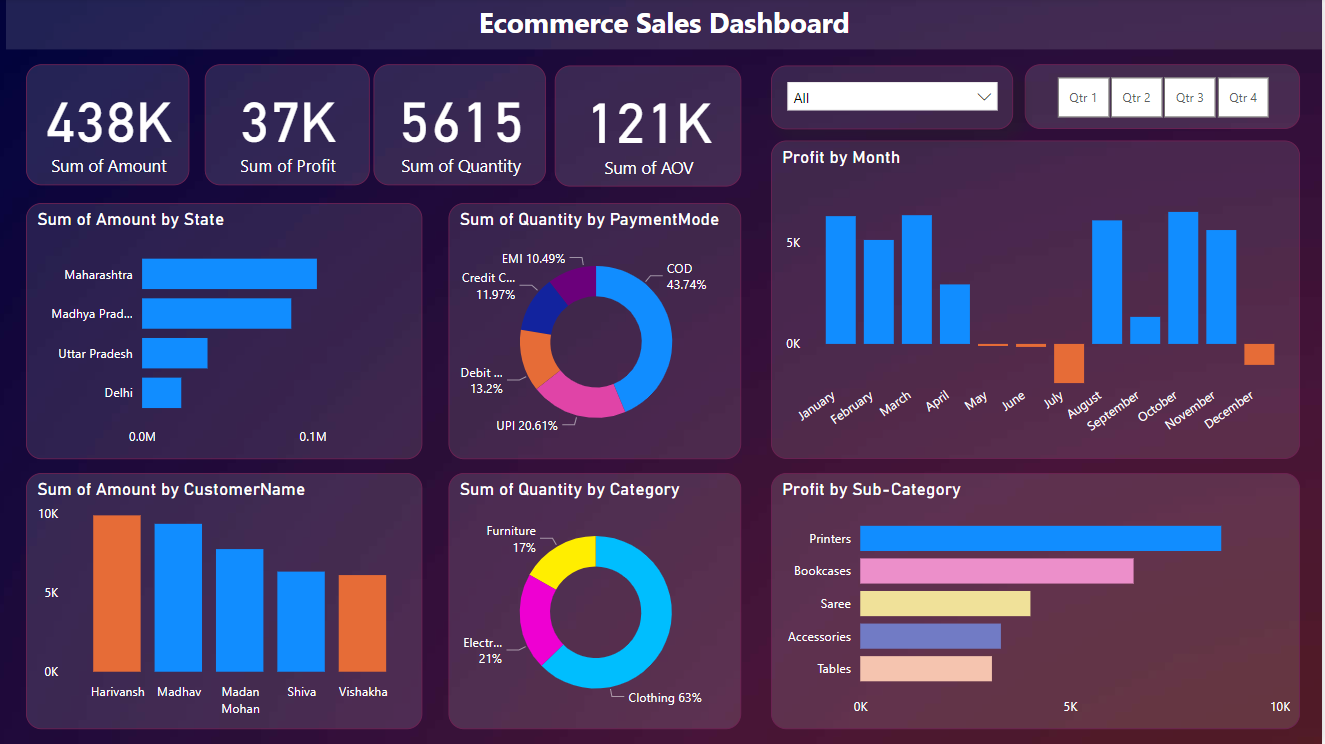

Layout of this report page (visuals, bound fields, positions):
{"tool":"powerbi","page":{"name":"Page 1","canvas":[1280,720],"ordinal":0},"visuals":[{"type":"textbox","box":[9.6,0,1269.9,49.4],"z":0},{"type":"clusteredColumnChart","title":"Profit by Month","fields":{"Y":["Details.Profit"],"Category":["Orders.Order Date.Variation.Date Hierarchy.Month"]},"box":[747.7,137.5,510.2,307.5],"z":1000},{"type":"barChart","title":"Profit by Sub-Category","fields":{"Category":["Details.Sub-Category"],"Y":["Details.Profit"]},"box":[747.7,458.3,510.2,247.2],"z":2000},{"type":"donutChart","fields":{"Category":["Details.Category"],"Y":["Details.Quantity"]},"box":[436.6,458.3,282.2,247.2],"z":3000},{"type":"donutChart","fields":{"Category":["Details.PaymentMode"],"Y":["Details.Quantity"]},"box":[436.4,197.6,282.7,247],"z":4000},{"type":"card","fields":{"Values":["Details.Amount"]},"box":[28.9,63.9,158,117],"z":5000},{"type":"card","fields":{"Values":["Details.Profit"]},"box":[201.4,63.9,159.2,117],"z":6000},{"type":"card","fields":{"Values":["Details.Quantity"]},"box":[364.2,63.9,166.4,117],"z":7000},{"type":"card","fields":{"Values":["Details.AOV"]},"box":[539.1,65.1,179.7,117],"z":8000},{"type":"barChart","fields":{"Category":["Orders.State"],"Y":["Details.Amount"]},"box":[28.9,197.8,382.3,247.2],"z":9000},{"type":"clusteredColumnChart","fields":{"Category":["Orders.CustomerName"],"Y":["Details.Amount"]},"box":[29,458,382,247],"z":10000},{"type":"slicer","fields":{"Values":["Orders.Order Date.Variation.Date Hierarchy.Quarter"]},"box":[992.6,63.9,265.3,62.7],"z":11000},{"type":"slicer","fields":{"Values":["Orders.State"]},"box":[747.7,65.1,234,61.5],"z":12000}]}

Visuals, with their boxes in screenshot pixels (x1, y1, x2, y2), scaled from the page's 1280x720 canvas onto the 1325x744 screenshot:
textbox: 10/0/1324/51
"Profit by Month" clusteredColumnChart: 774/142/1302/460
"Profit by Sub-Category" barChart: 774/474/1302/729
donutChart - Details.Category x Details.Quantity: 452/474/744/729
donutChart - Details.PaymentMode x Details.Quantity: 452/204/744/459
card - Details.Amount: 30/66/193/187
card - Details.Profit: 208/66/373/187
card - Details.Quantity: 377/66/549/187
card - Details.AOV: 558/67/744/188
barChart - Orders.State x Details.Amount: 30/204/426/460
clusteredColumnChart - Orders.CustomerName x Details.Amount: 30/473/425/729
slicer - Orders.Order Date.Variation.Date Hierarchy.Quarter: 1027/66/1302/131
slicer - Orders.State: 774/67/1016/131
